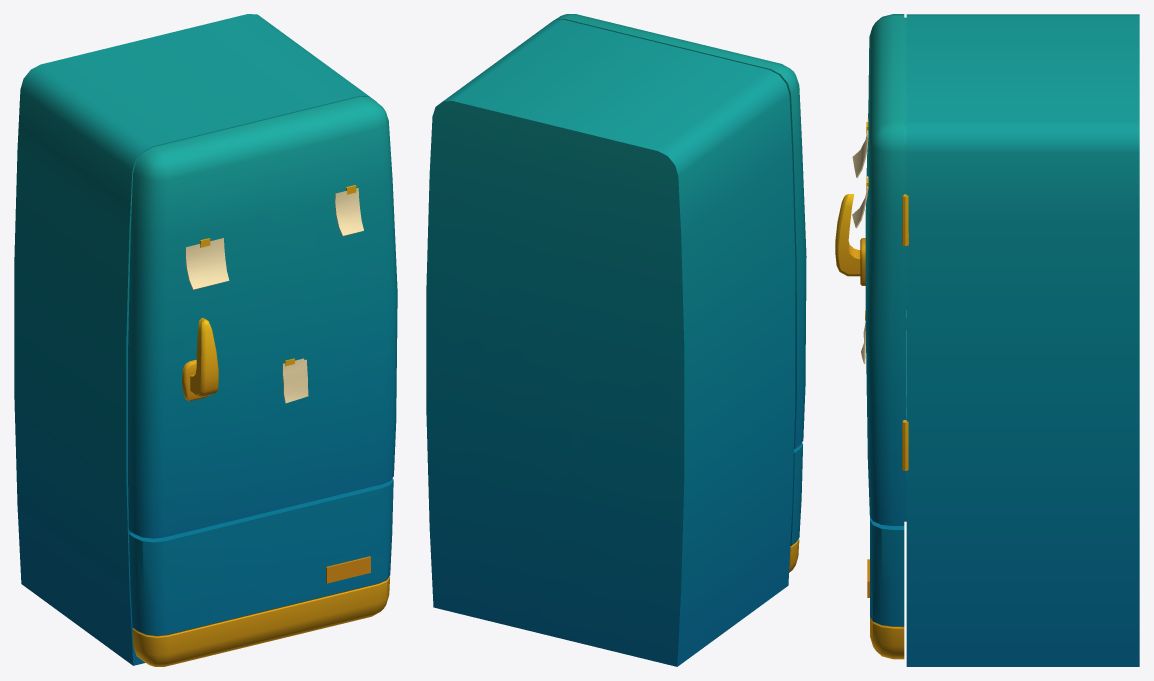
File: BlueFridge.fbx
3 renders of one model, left to right at view 1: azimuth 30°, elevation 25°; view 2: azimuth 150°, elevation 25°; view 3: azimuth 270°, elevation 25°, orthographic. The views are drawn at different scales.
Visible parts, largest first — view 1: Fridge.007, FridgeDoor.003; view 2: Fridge.007, FridgeDoor.003; view 3: Fridge.007, FridgeDoor.003.
Part boxes in pixels (<box>): Fridge.007: <box>14,14,393,666</box>; FridgeDoor.003: <box>128,96,397,538</box>; Fridge.007: <box>426,19,802,666</box>; FridgeDoor.003: <box>555,14,806,448</box>; Fridge.007: <box>867,14,1139,666</box>; FridgeDoor.003: <box>835,14,906,525</box>.
Size of the model in its own units: 115 by 216 by 111.
